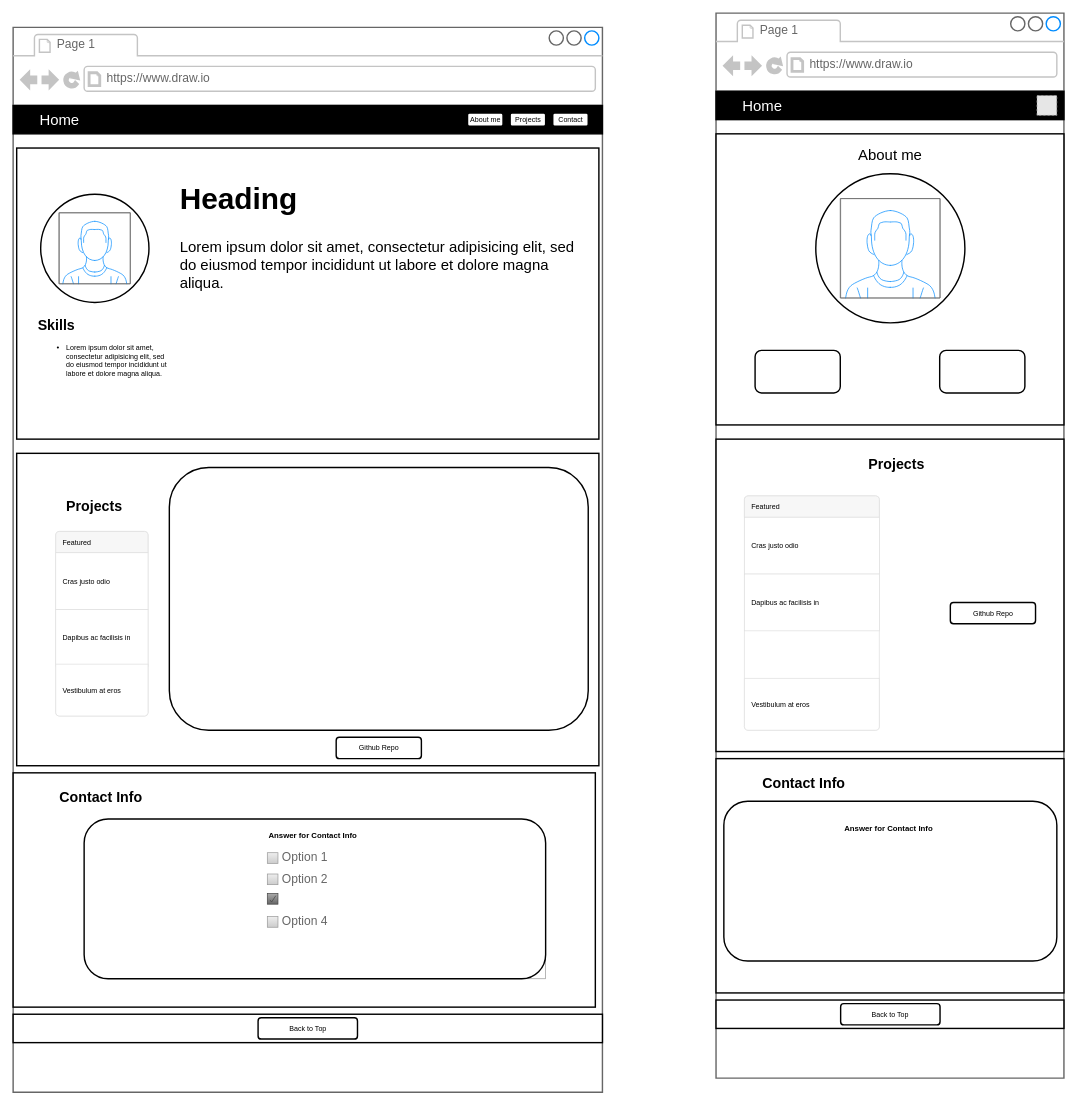
This 1076x1105 diagram has some shape labels left out. Grey dashed boxes stand in for pictures. The centre of each missing label's shape, as x and y in pixels:
"Load script into this Div" belongs at (x=378, y=598).
"Option 3" belongs at (x=272, y=898).
